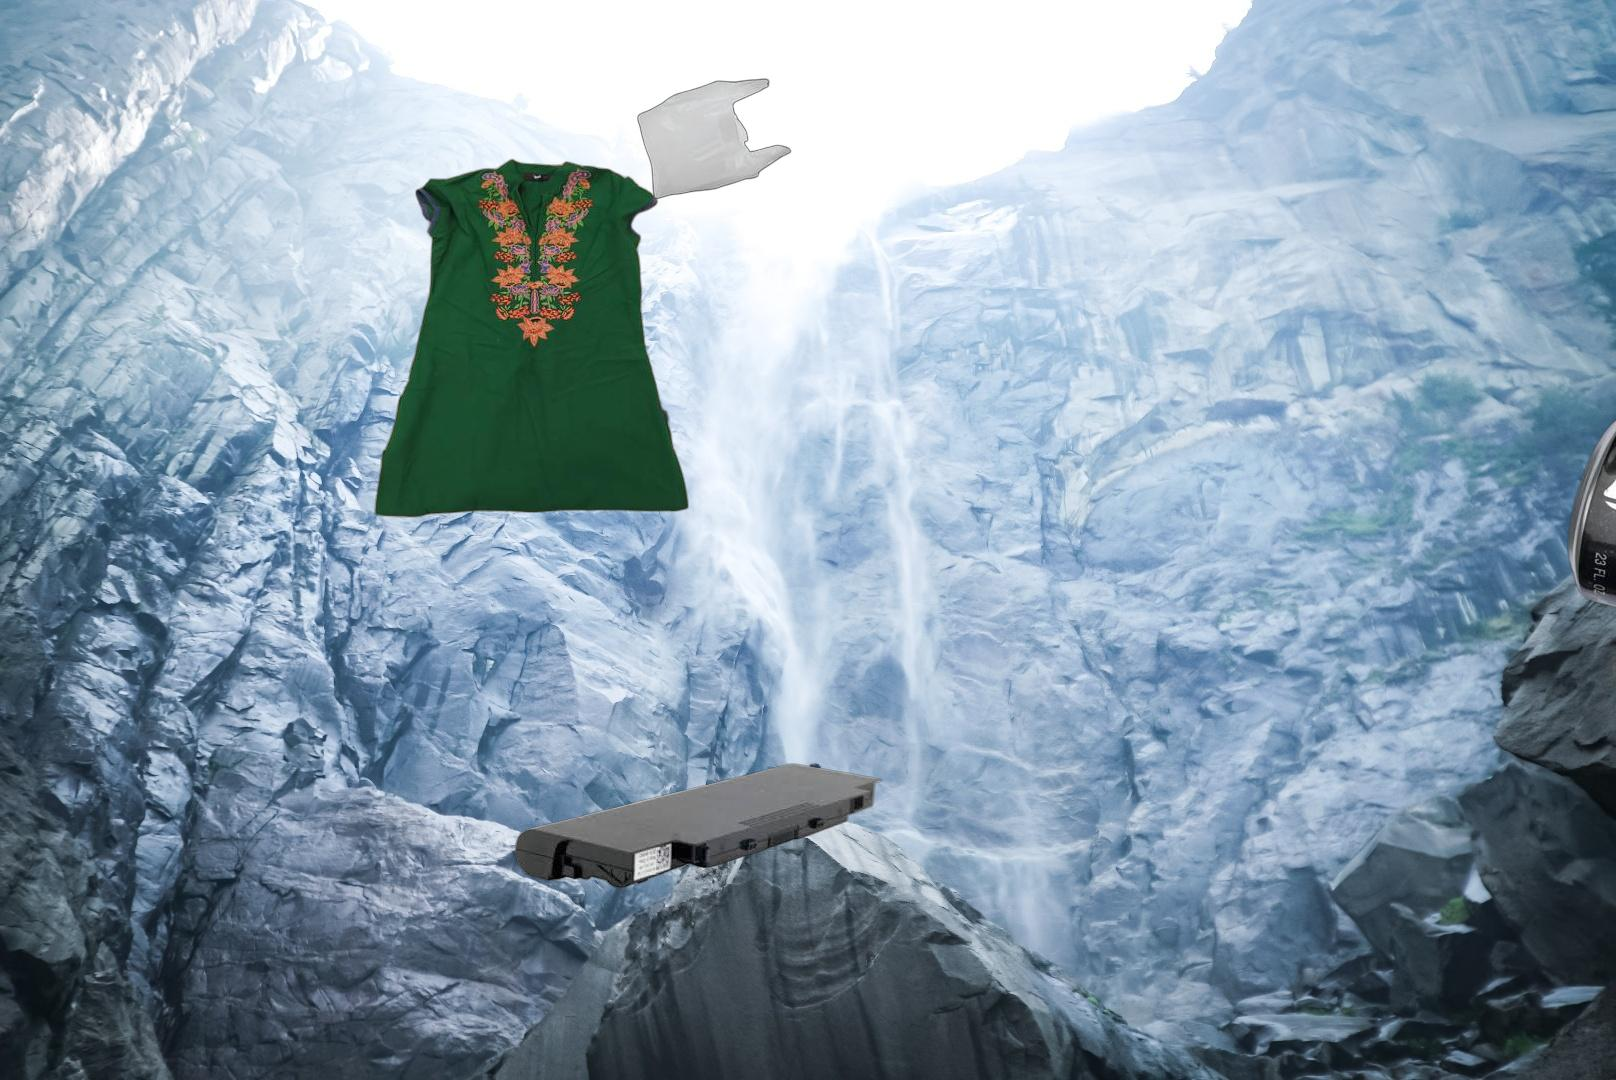battery: (512, 761, 886, 890)
clothes: (372, 155, 691, 520)
metal-cans: (1563, 399, 1616, 644)
plastic-bag: (634, 76, 792, 202)
